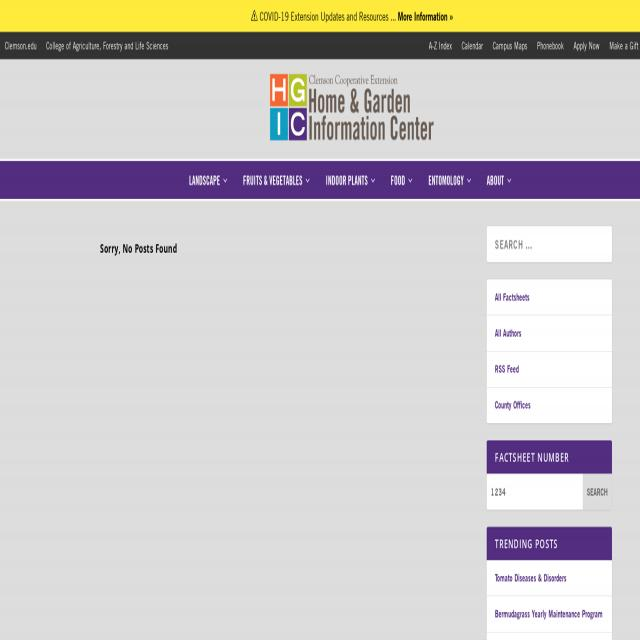button: (270, 74, 434, 141), (486, 386, 612, 423), (487, 315, 612, 352), (487, 279, 612, 314), (487, 352, 611, 386), (243, 161, 313, 199), (326, 161, 378, 199), (428, 161, 475, 199), (189, 161, 231, 199), (487, 161, 515, 199), (584, 474, 613, 510), (391, 161, 416, 199)
field: (486, 225, 612, 261), (487, 474, 583, 508)
